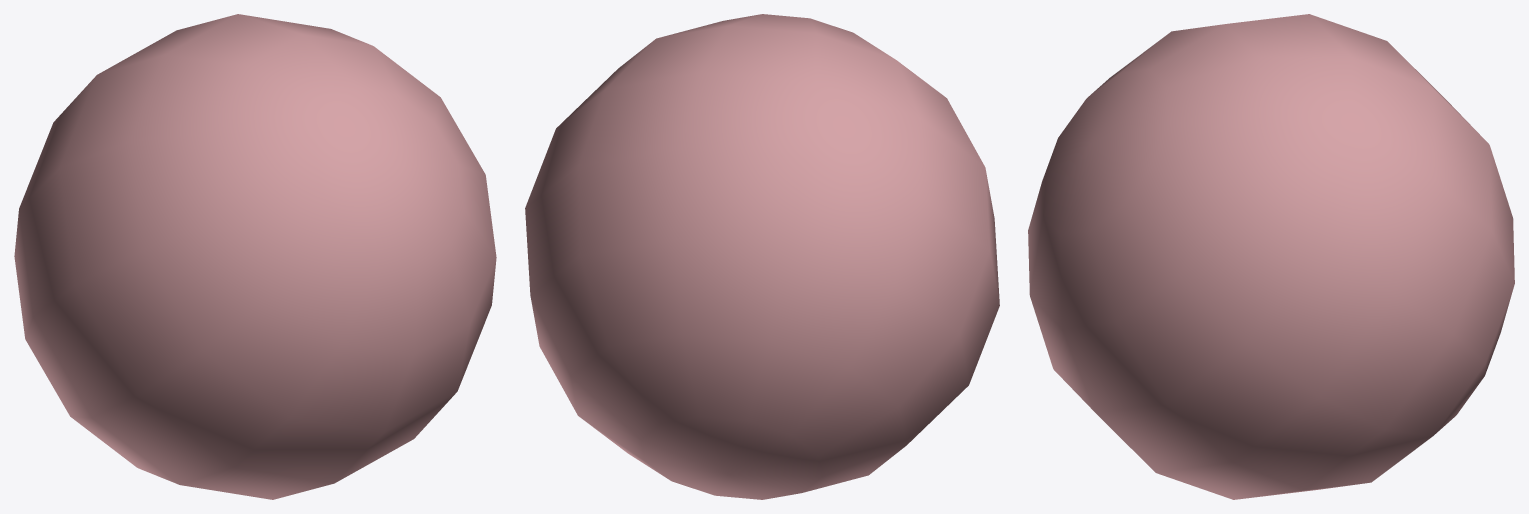
The picture shows the model from 3 angles, left to right: view 1: azimuth 30°, elevation 25°; view 2: azimuth 150°, elevation 25°; view 3: azimuth 270°, elevation 25°; orthographic projection.
Visible parts, largest first — view 1: ZA_fbe9654df9224c55; view 2: ZA_fbe9654df9224c55; view 3: ZA_fbe9654df9224c55.
Boxes of the visible parts, x1=… form: ZA_fbe9654df9224c55: x1=14, y1=14, x2=496, y2=499; ZA_fbe9654df9224c55: x1=525, y1=14, x2=999, y2=499; ZA_fbe9654df9224c55: x1=1028, y1=14, x2=1514, y2=499.
Size of the model in its own units: 0.00258 by 0.00255 by 0.00256.
